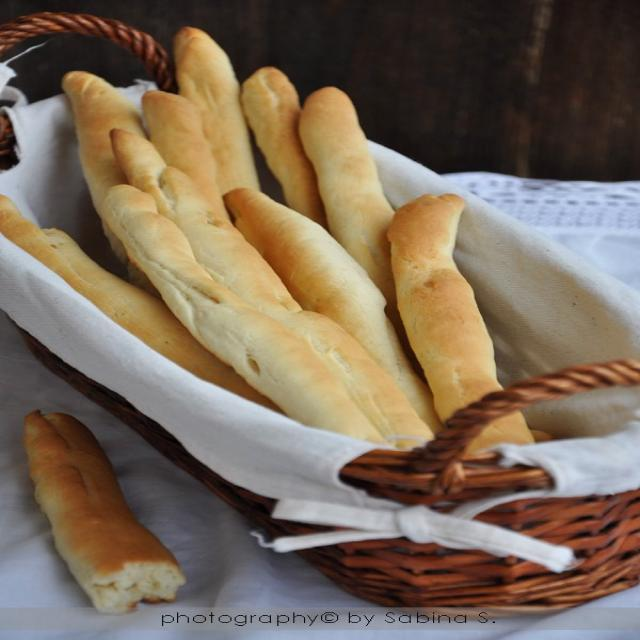Grissini: (48, 28, 541, 462)
